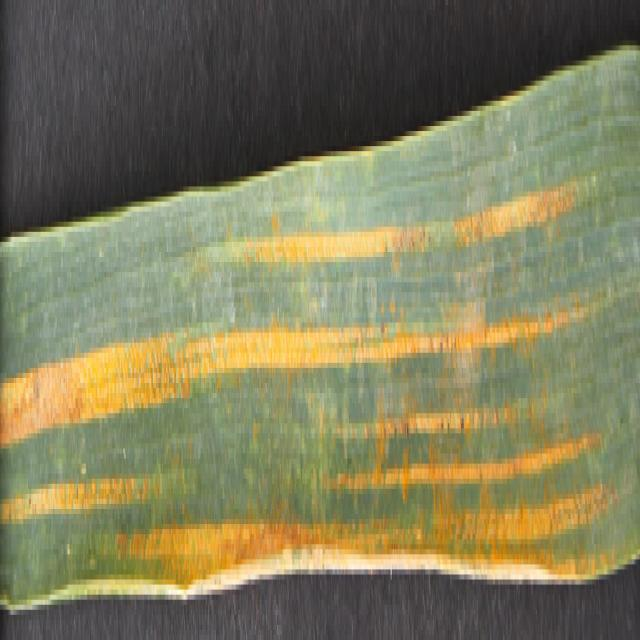leaf rust: (1, 121, 618, 595)
